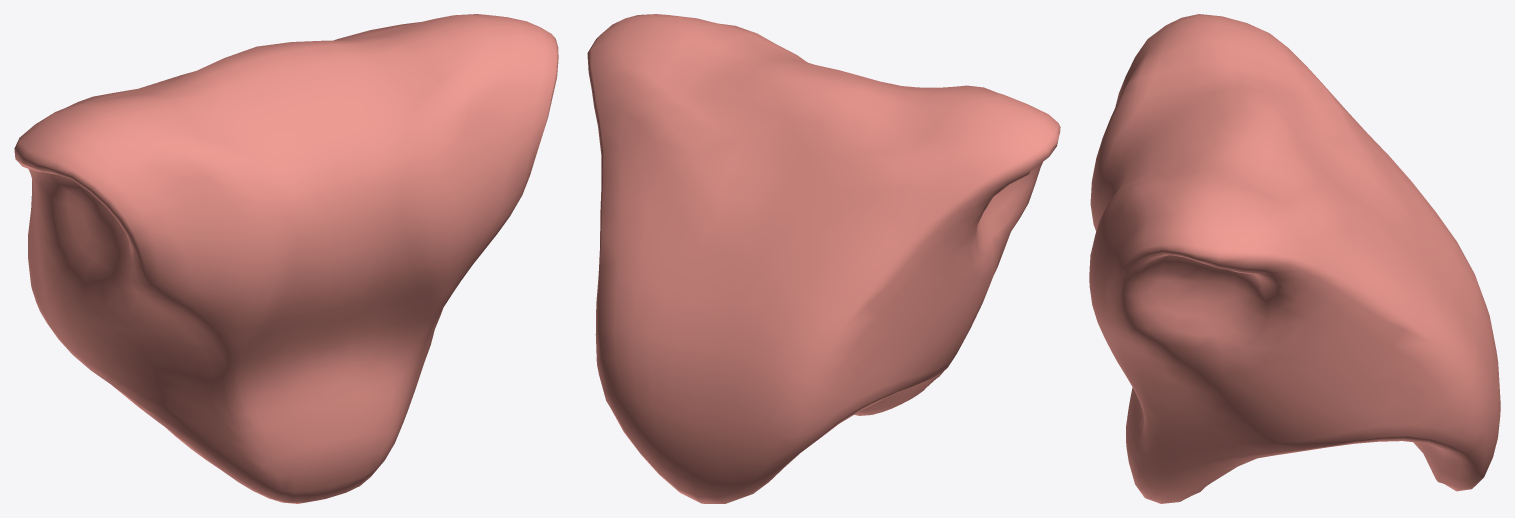
Rendered from chest.glb.
The picture shows the model from 3 angles, left to right: view 1: azimuth 30°, elevation 25°; view 2: azimuth 150°, elevation 25°; view 3: azimuth 270°, elevation 25°; orthographic projection. The views are drawn at different scales.
Visible parts, largest first — view 1: Beta_Surface.001; view 2: Beta_Surface.001; view 3: Beta_Surface.001.
Part boxes in pixels (x1=…): Beta_Surface.001: x1=14, y1=14, x2=558, y2=503; Beta_Surface.001: x1=587, y1=14, x2=1060, y2=503; Beta_Surface.001: x1=1089, y1=14, x2=1500, y2=503.
Size of the model in its own units: 0.3856 by 0.2924 by 0.2842.
